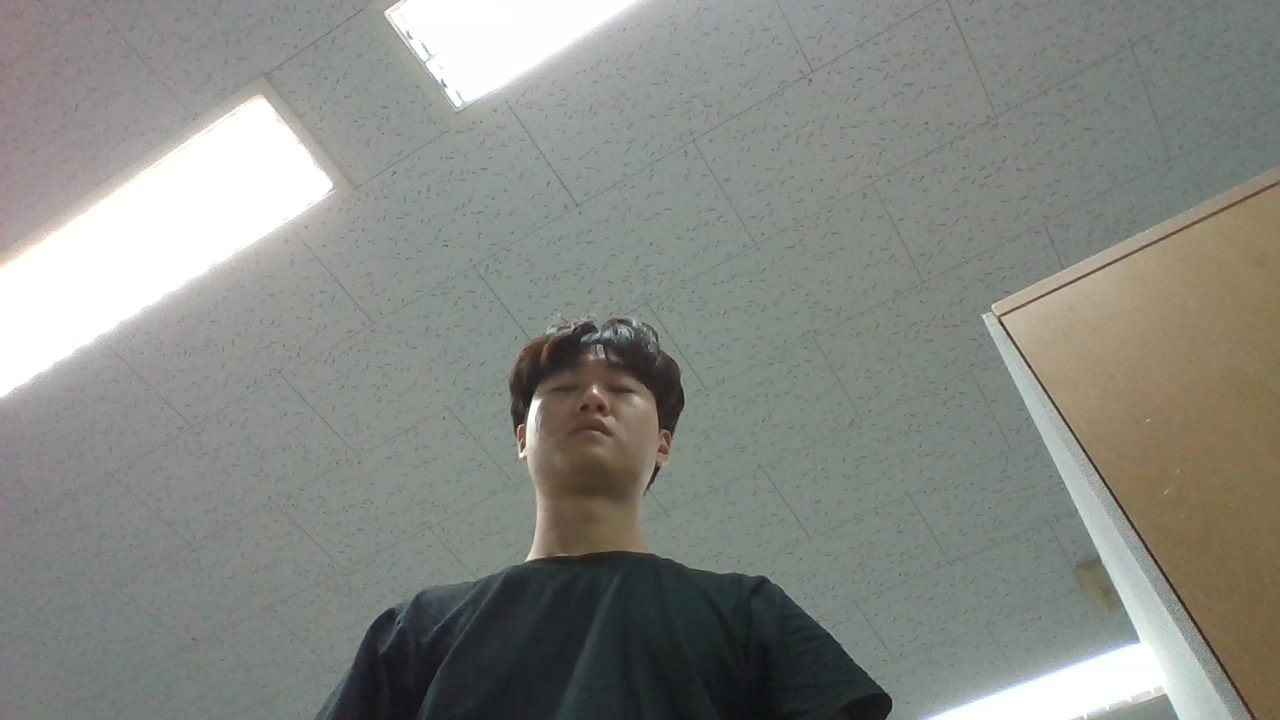Non-Helmet: (487, 289, 712, 514)
